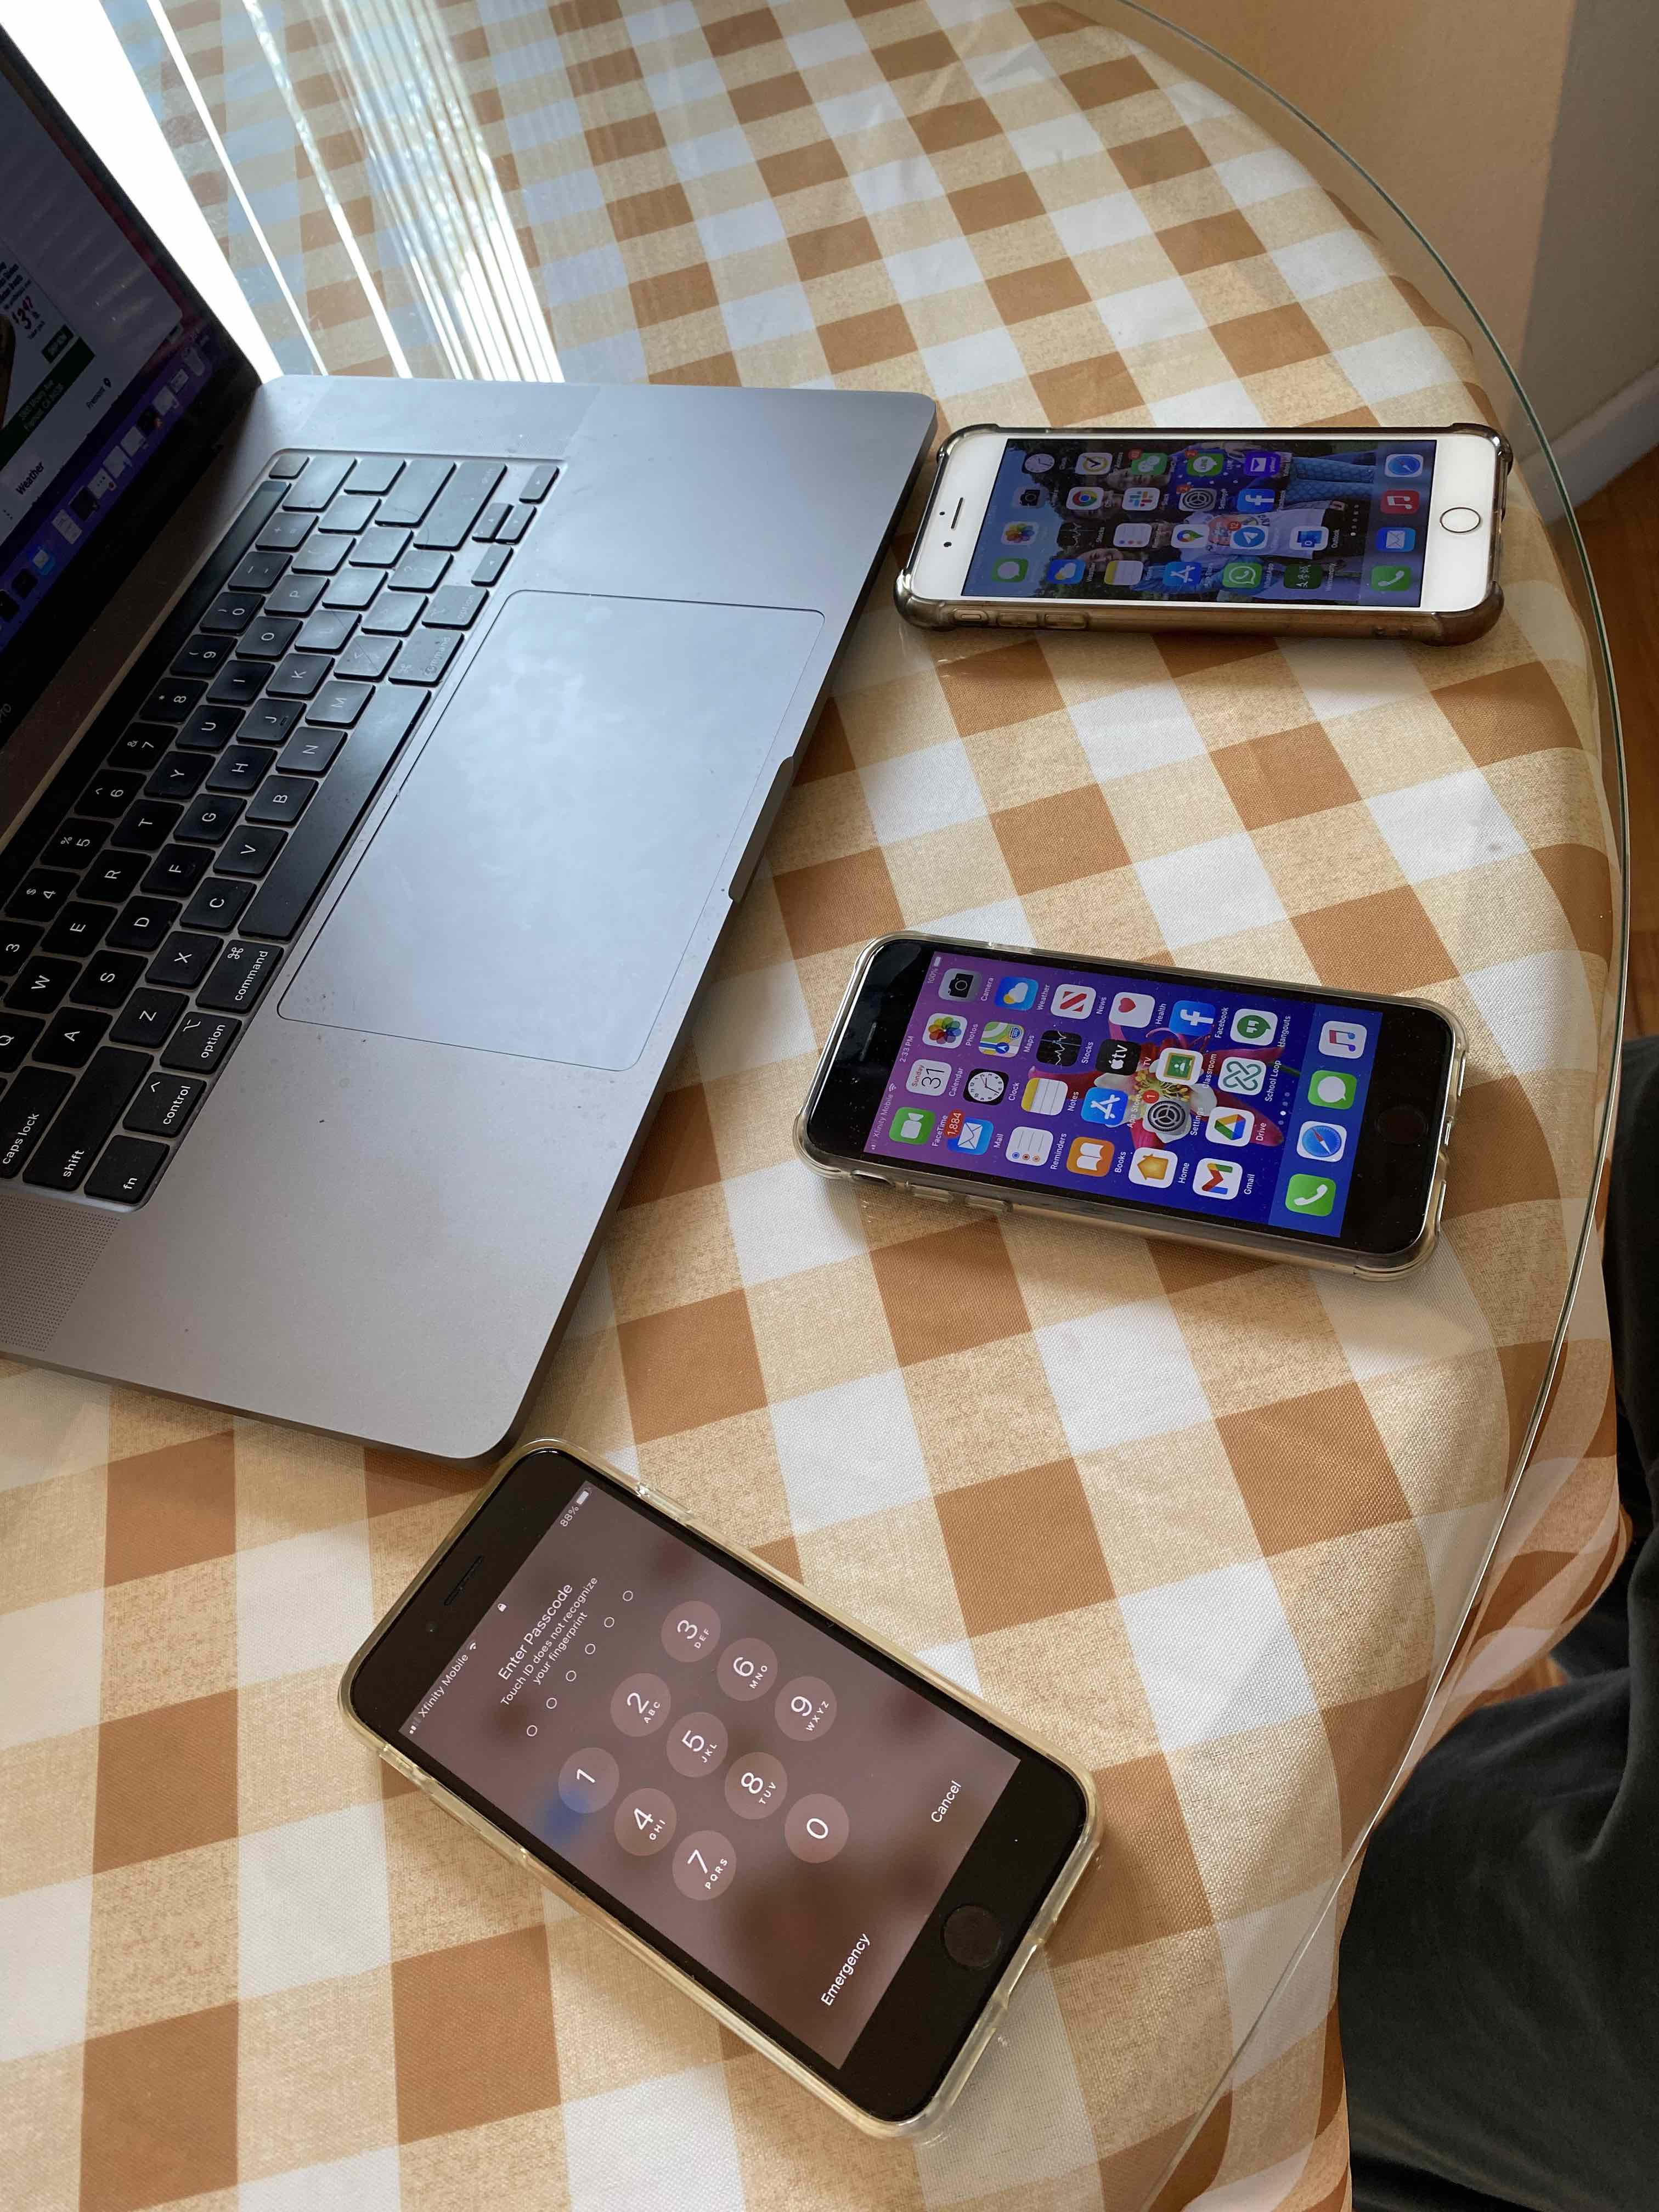Cell Phone: (319, 1444, 1091, 2137), (807, 927, 1471, 1280), (894, 425, 1513, 637)
